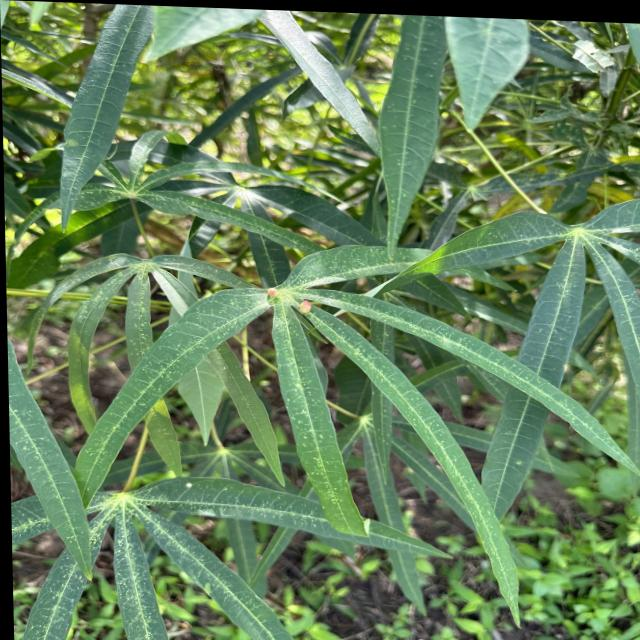Mosca: (285, 287, 325, 317), (262, 201, 292, 229), (181, 465, 204, 498), (223, 194, 250, 217), (257, 274, 279, 302), (508, 452, 531, 474)
